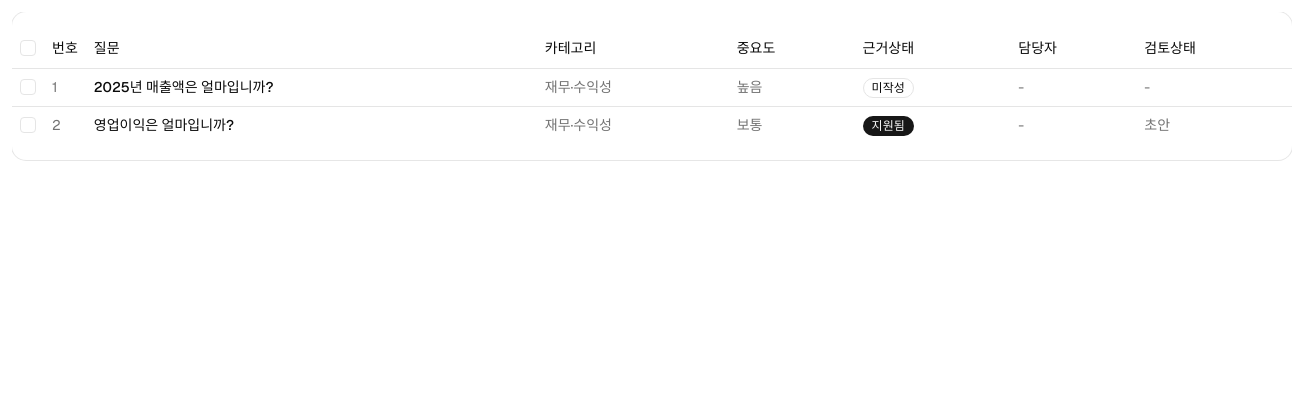
it: QuestionsTable › 검토 요청은 답변이 있는 질문만 대상으로 하고, 나머지는 건너뛴다
What coordinates should you click on to do the following:
click the checkbox named "전체 선택"
I would click on:
 (28, 48)
Its box is [20,40,36,56].
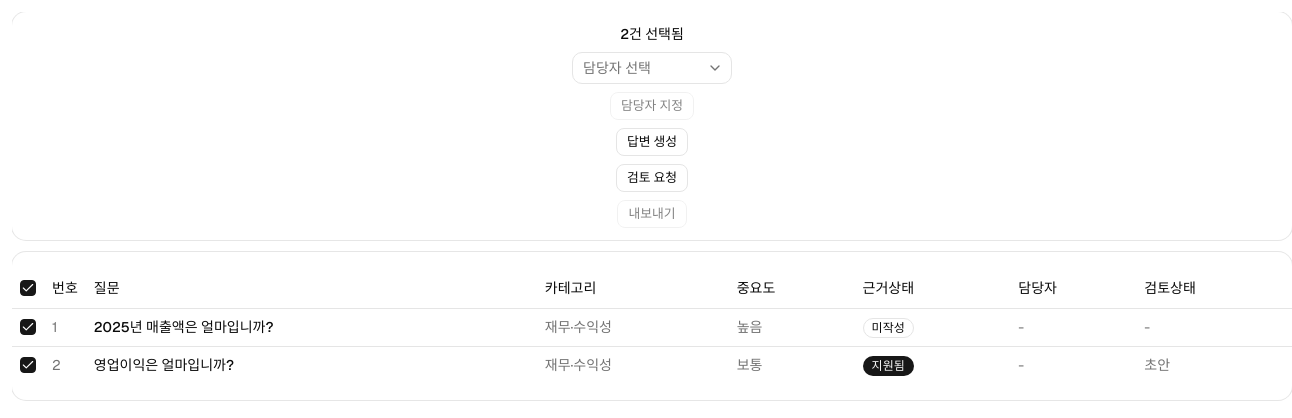
What coordinates should you click on to do the following:
click the button "검토 요청"
I would click on:
 (652, 178)
Its box is [616,164,688,192].
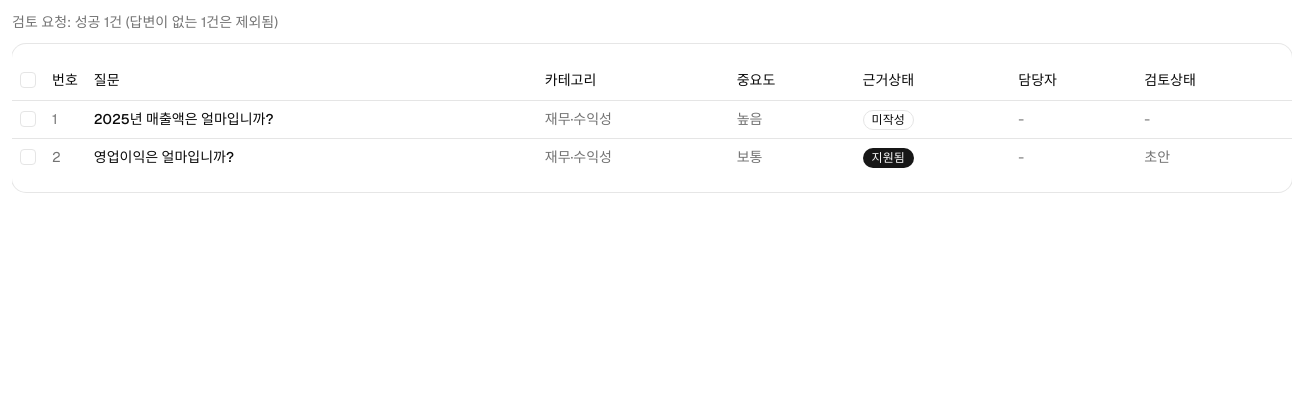
Expected: the text "검토 요청: 성공 1건 (답변이 없는 1건은 제외됨)" is shown, [12,13,278,31]
